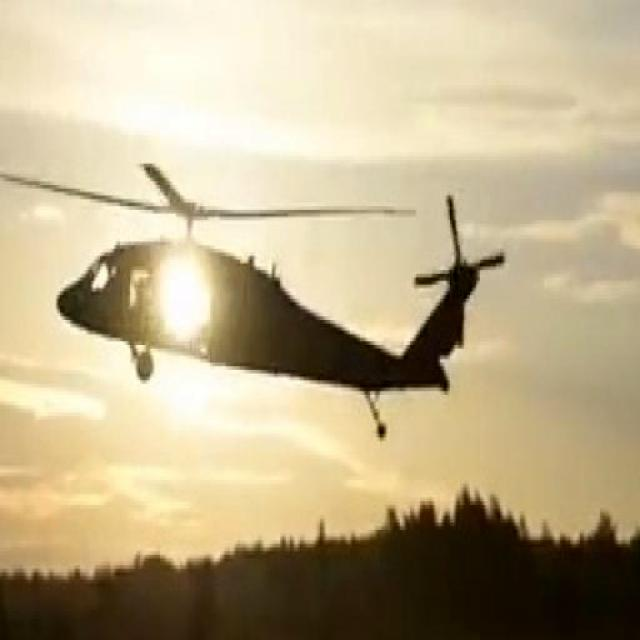drone: (0, 154, 510, 450)
